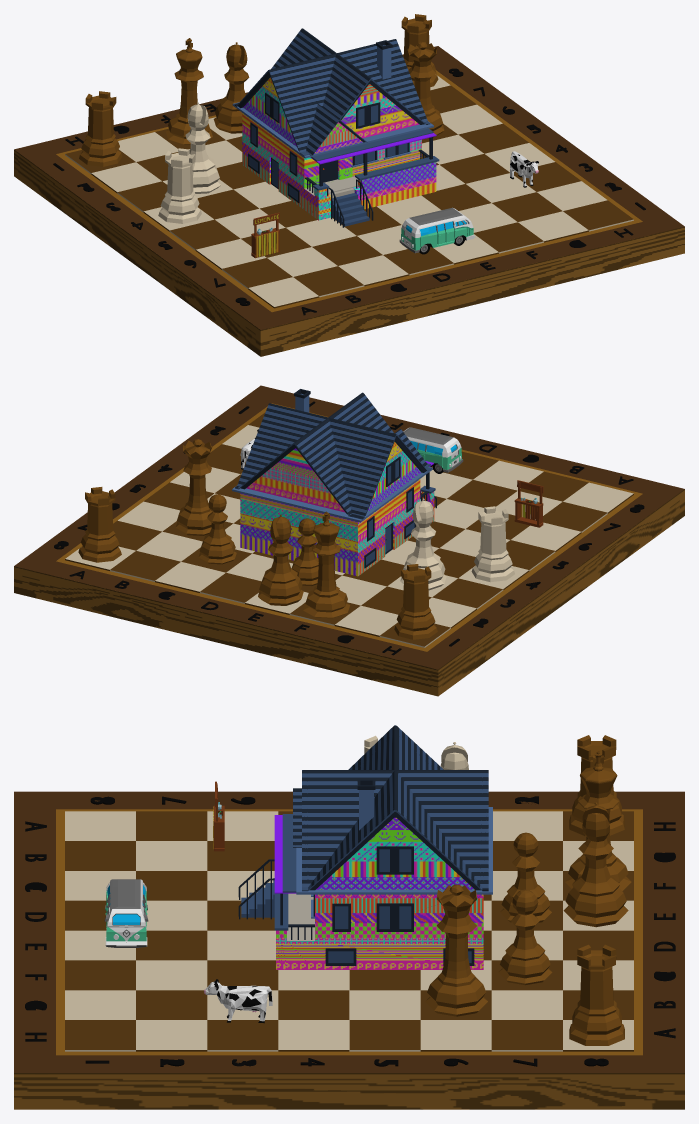
3 views of the same model, one above another, from view 1: azimuth 30°, elevation 25°; view 2: azimuth 150°, elevation 25°; view 3: azimuth 270°, elevation 25° (orthographic). The views are drawn at different scales.
Visible parts, largest first — view 1: Cube.002, Cube.676, VEHICLES_VAN, OBJRANDOM_LEMONADE_STAND, ANIMAL_VACA; view 2: Cube.002, Cube.676, VEHICLES_VAN, OBJRANDOM_LEMONADE_STAND; view 3: Cube.002, Cube.676, VEHICLES_VAN, ANIMAL_VACA, OBJRANDOM_LEMONADE_STAND.
Boxes of the visible parts, bbox=[...] form: Cube.002: bbox=[14, 14, 684, 356]; Cube.676: bbox=[232, 28, 439, 227]; VEHICLES_VAN: bbox=[399, 207, 475, 254]; OBJRANDOM_LEMONADE_STAND: bbox=[251, 212, 279, 258]; ANIMAL_VACA: bbox=[510, 151, 538, 187]; Cube.002: bbox=[14, 385, 684, 696]; Cube.676: bbox=[232, 389, 436, 576]; VEHICLES_VAN: bbox=[403, 427, 463, 473]; OBJRANDOM_LEMONADE_STAND: bbox=[514, 480, 543, 527]; Cube.002: bbox=[14, 735, 684, 1109]; Cube.676: bbox=[238, 725, 492, 969]; VEHICLES_VAN: bbox=[104, 879, 148, 947]; ANIMAL_VACA: bbox=[204, 979, 272, 1023]; OBJRANDOM_LEMONADE_STAND: bbox=[213, 781, 224, 851].
Bounding box in the file's own units: 3981 × 1500 × 4012.
41 materials, 6 textured.
